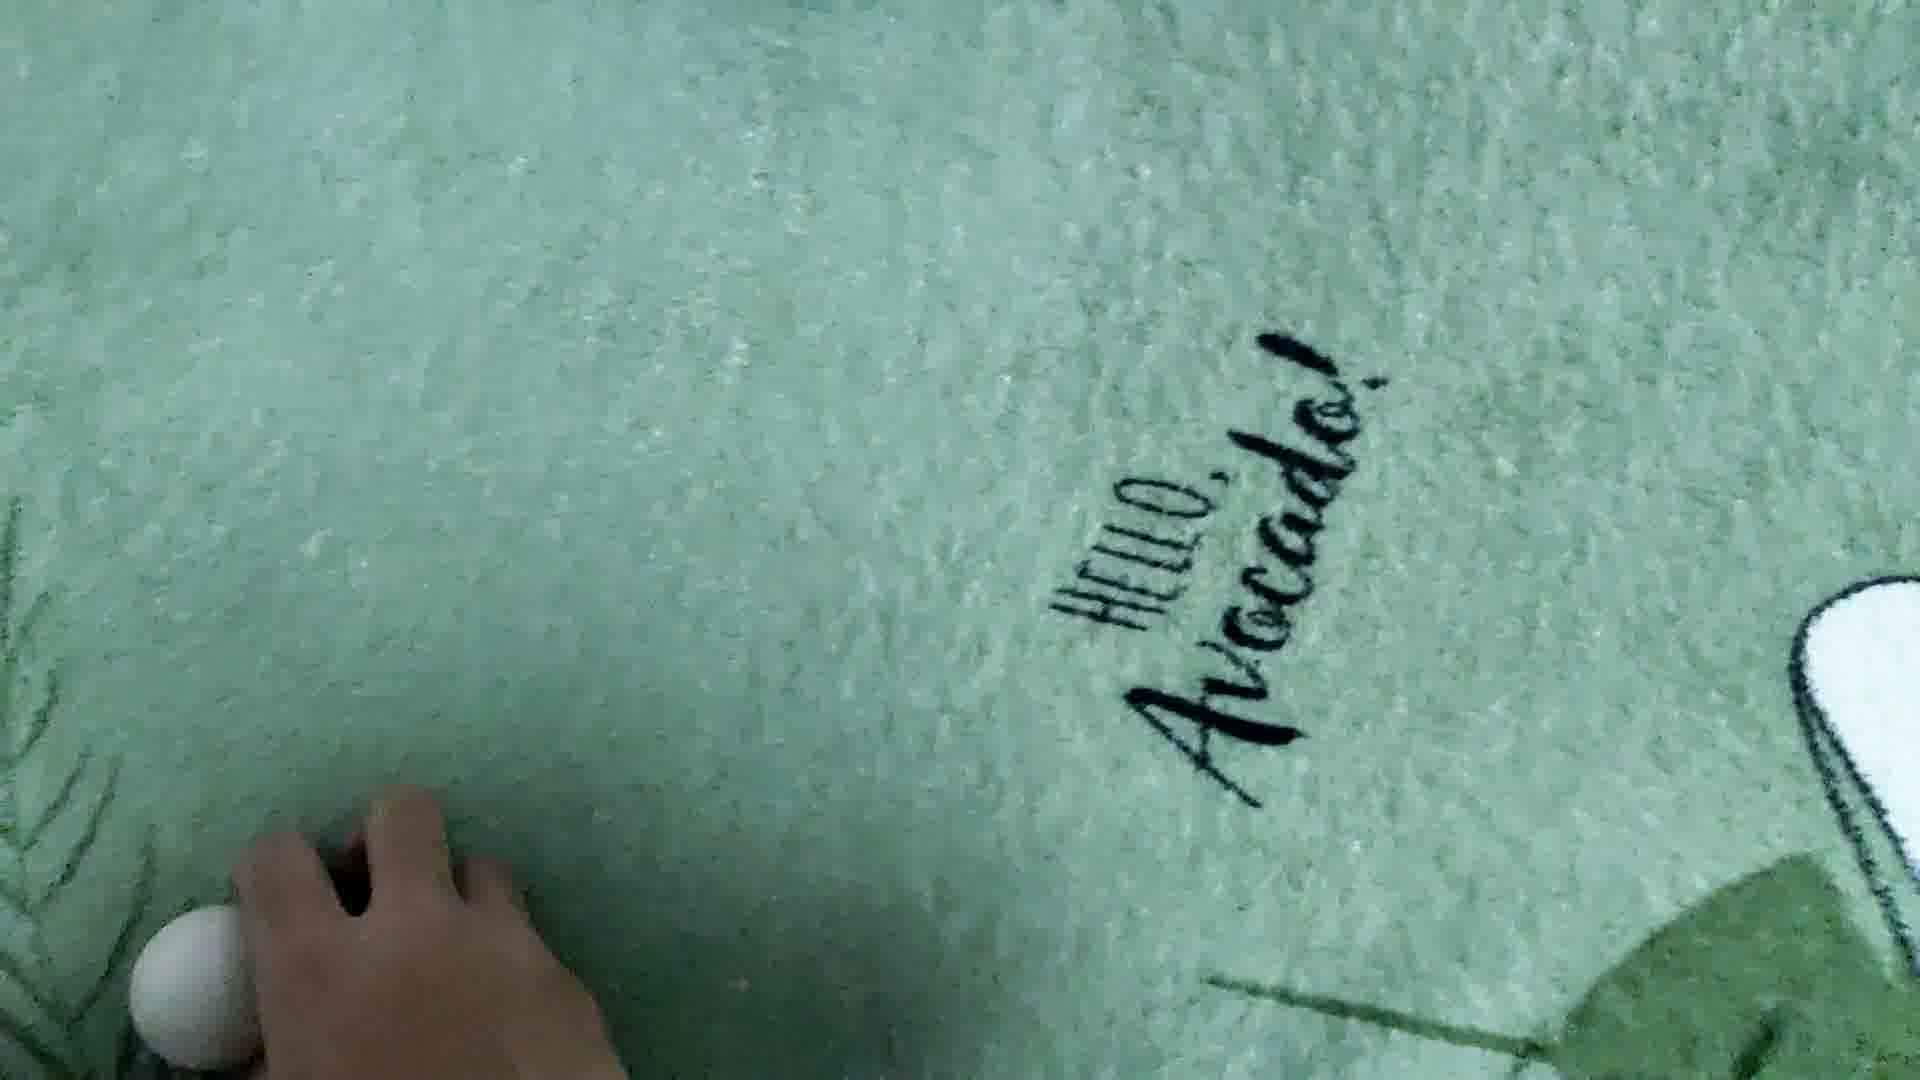Ball: (133, 899, 295, 1071)
